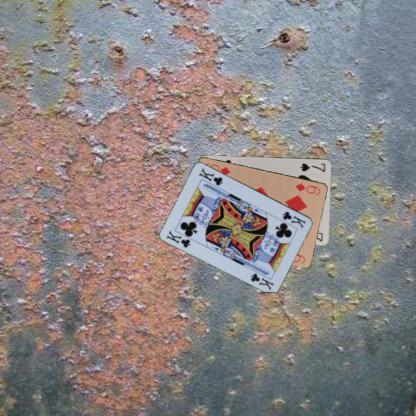6d: (293, 180, 322, 196)
7s: (298, 161, 326, 173)
Kc: (164, 228, 192, 250), (280, 209, 308, 230)
